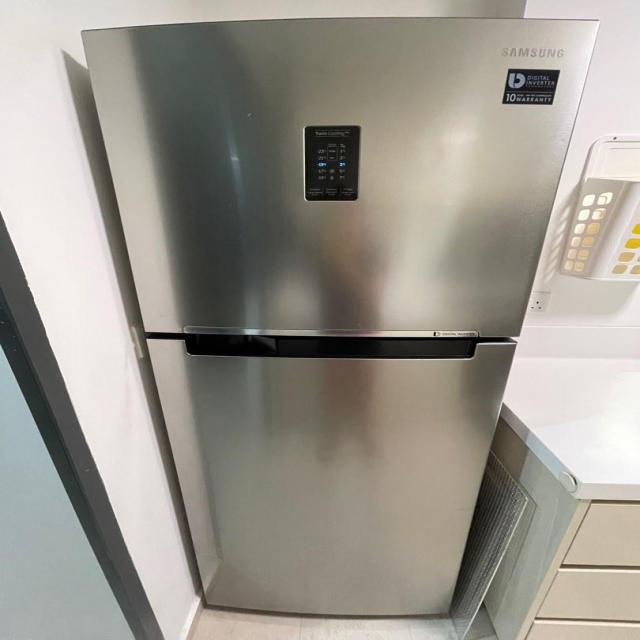refrigerator: (80, 17, 603, 619)
